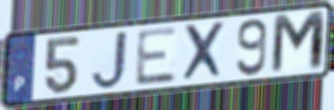5: (44, 35, 83, 96)
9: (236, 18, 269, 77)
E: (133, 25, 180, 88)
J: (89, 29, 131, 92)
M: (268, 8, 328, 77)
X: (181, 20, 228, 84)
